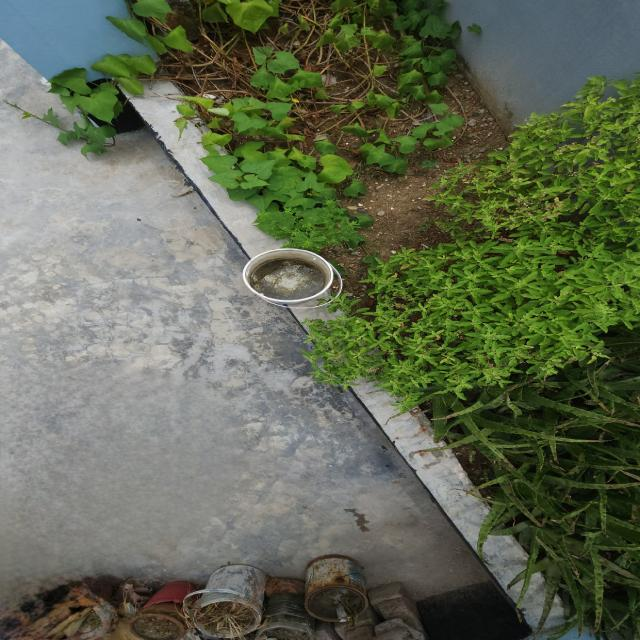Breeding Place: (216, 137, 640, 640), (0, 556, 446, 640), (232, 240, 352, 311)
